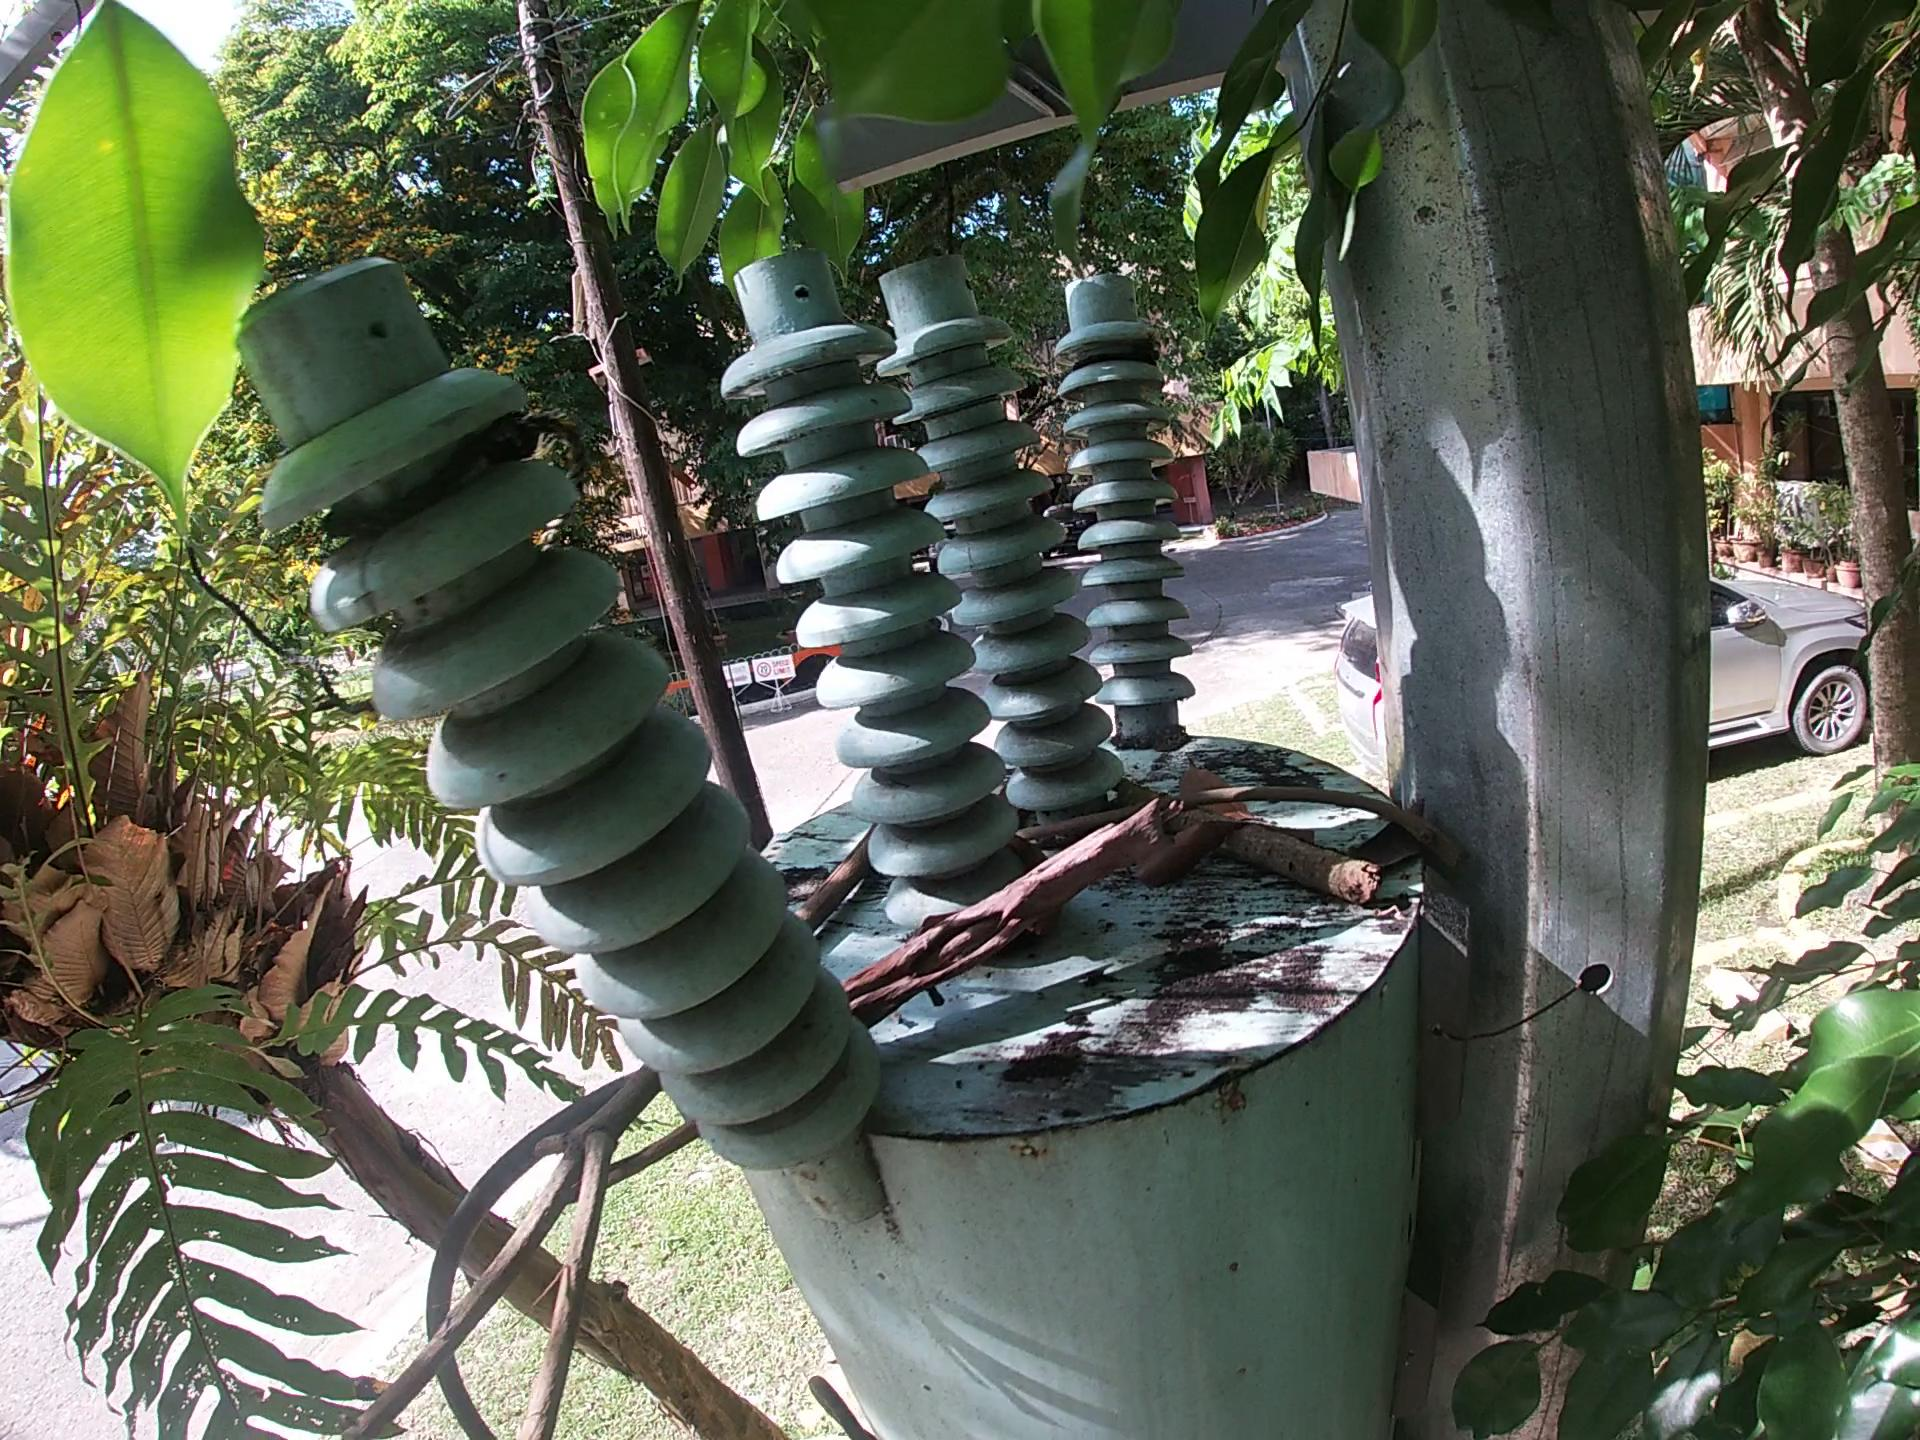leaf: (1120, 812, 1238, 902), (1352, 788, 1435, 874), (1172, 758, 1246, 818)
tree branch: (330, 1062, 674, 1438), (831, 793, 1194, 1029), (1017, 777, 1476, 885), (1126, 781, 1388, 911), (556, 1116, 708, 1212), (788, 827, 878, 932)
